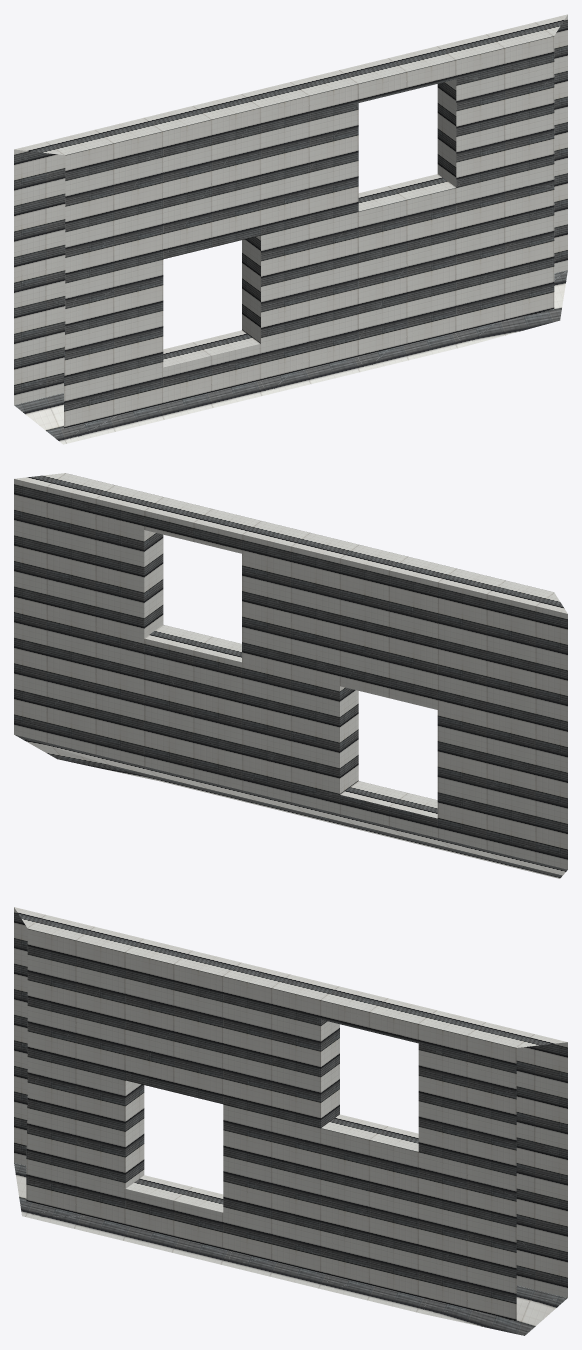
The model's file is Central_Wall_3.FBX.
The picture shows the model from 3 angles, top to bottom: view 1: azimuth 30°, elevation 25°; view 2: azimuth 150°, elevation 25°; view 3: azimuth 330°, elevation 25°; orthographic projection.
Parts seen in each view (by area): view 1: Central_Wall_3; view 2: Central_Wall_3; view 3: Central_Wall_3.
Boxes of the visible parts, x1,y1,x2,y2 form: Central_Wall_3: (14,14,567,444); Central_Wall_3: (14,473,567,878); Central_Wall_3: (14,907,567,1335).
Bounding box in the file's own units: 340 × 168 × 21.93.
